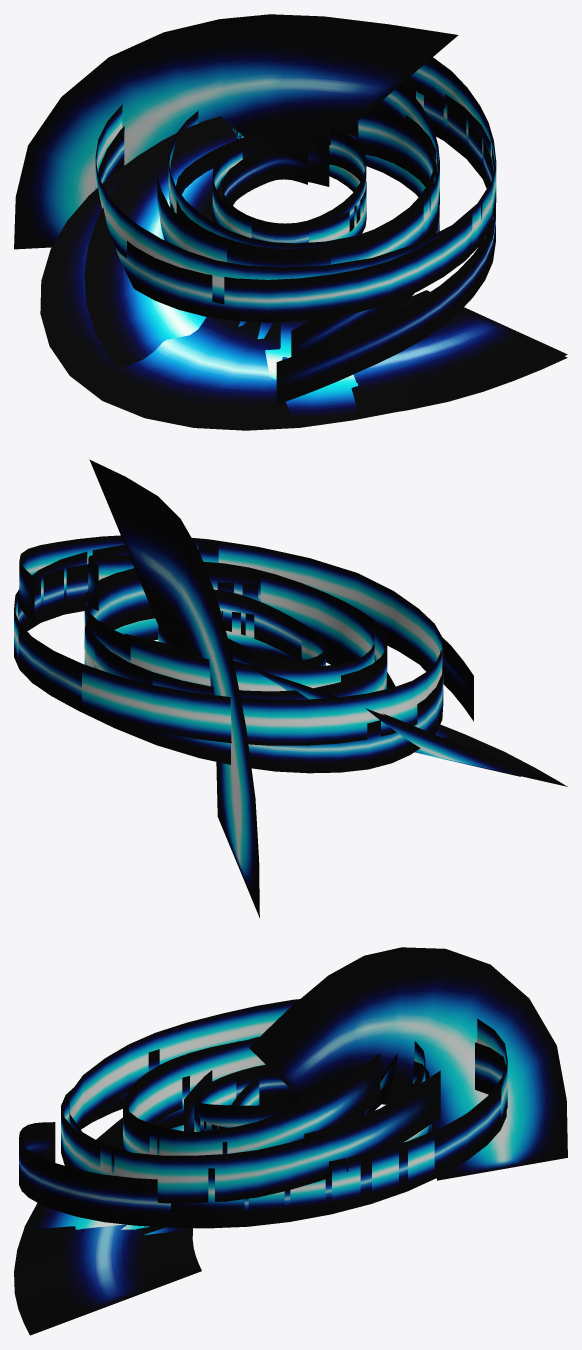
The model's file is effect_zhaoyun_bb_1.FBX.
The picture shows the model from 3 angles, top to bottom: view 1: azimuth 30°, elevation 25°; view 2: azimuth 150°, elevation 25°; view 3: azimuth 270°, elevation 25°; orthographic projection. The views are drawn at different scales.
Visible parts, largest first — view 1: effect_zhaoyun_4, effect_zhaoyun_3, effect_zhaoyun_2, effect_zhaoyun_5, effect_zhaoyun_1; view 2: effect_zhaoyun_4, effect_zhaoyun_3, effect_zhaoyun_5, effect_zhaoyun_2, effect_zhaoyun_1; view 3: effect_zhaoyun_4, effect_zhaoyun_3, effect_zhaoyun_2, effect_zhaoyun_5, effect_zhaoyun_1.
Boxes of the visible parts, bbox=[...] form: effect_zhaoyun_4: bbox=[95, 57, 496, 404]; effect_zhaoyun_3: bbox=[14, 14, 458, 249]; effect_zhaoyun_2: bbox=[40, 124, 567, 430]; effect_zhaoyun_5: bbox=[157, 108, 434, 267]; effect_zhaoyun_1: bbox=[84, 116, 567, 422]; effect_zhaoyun_4: bbox=[14, 535, 473, 773]; effect_zhaoyun_3: bbox=[89, 459, 259, 917]; effect_zhaoyun_5: bbox=[84, 561, 387, 699]; effect_zhaoyun_2: bbox=[163, 646, 567, 786]; effect_zhaoyun_1: bbox=[124, 633, 520, 776]; effect_zhaoyun_4: bbox=[19, 999, 507, 1228]; effect_zhaoyun_3: bbox=[248, 947, 567, 1180]; effect_zhaoyun_2: bbox=[14, 1055, 397, 1331]; effect_zhaoyun_5: bbox=[124, 1040, 431, 1142]; effect_zhaoyun_1: bbox=[14, 1053, 397, 1335].
Bounding box in the file's own units: 554 × 330 × 536.
Materials: 1 (1 with a texture image).
